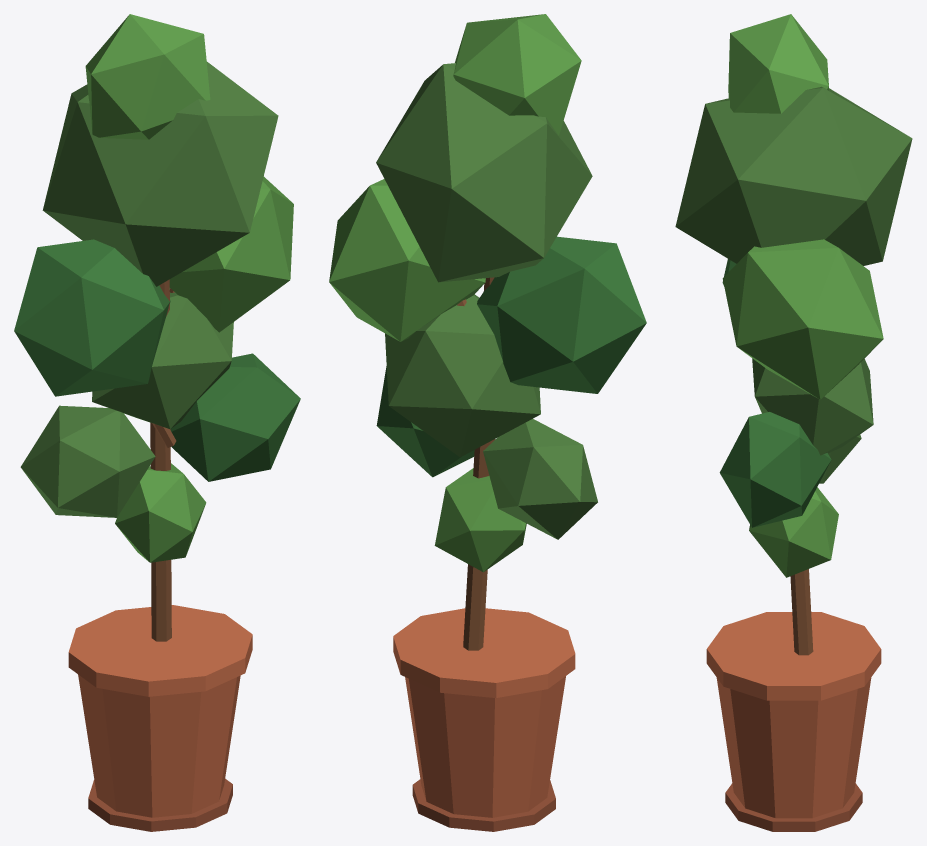
File: plant.glb
3 views of the same model, side by side, from view 1: azimuth 30°, elevation 25°; view 2: azimuth 150°, elevation 25°; view 3: azimuth 270°, elevation 25° (orthographic). The views are drawn at different scales.
Visible parts, largest first — view 1: plant_Body; view 2: plant_Body; view 3: plant_Body.
Part boxes in pixels (x1=…): plant_Body: x1=14, y1=14, x2=300, y2=831; plant_Body: x1=329, y1=14, x2=646, y2=831; plant_Body: x1=675, y1=14, x2=912, y2=831.
Size of the model in its own units: 0.7 by 1.8 by 0.5.
